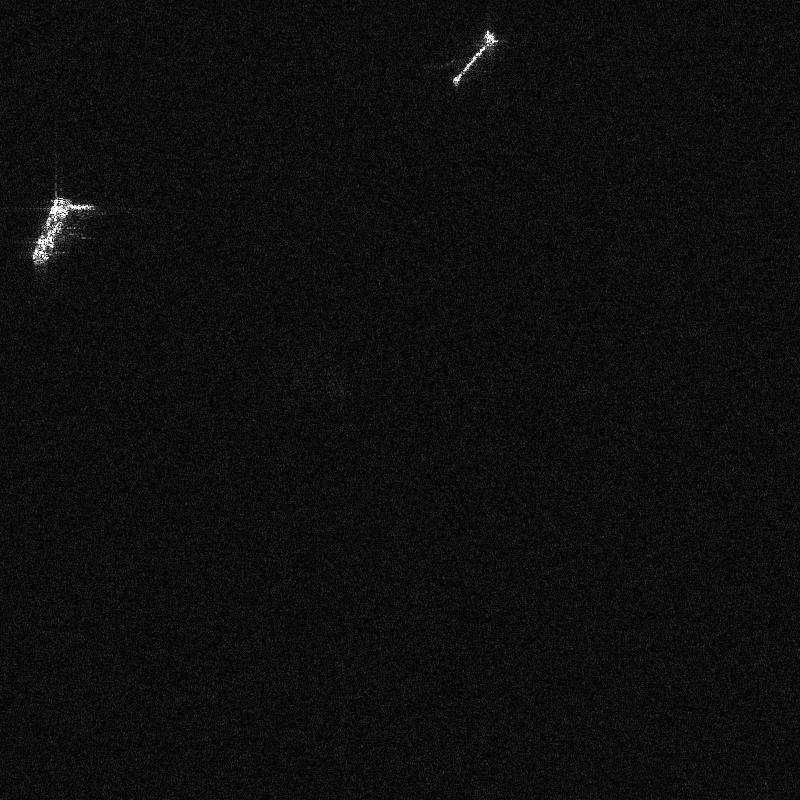ship: (31, 197, 71, 266), (452, 30, 496, 85)
